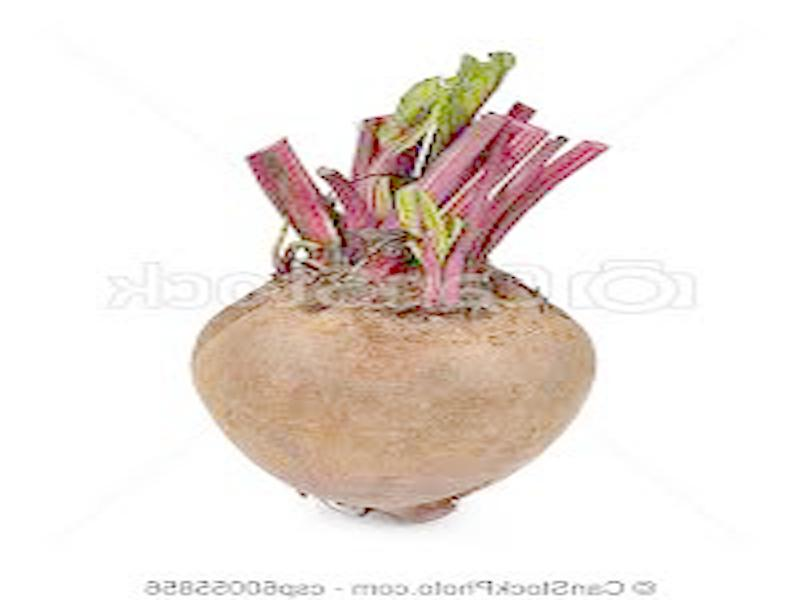Beet: (187, 52, 607, 521)
